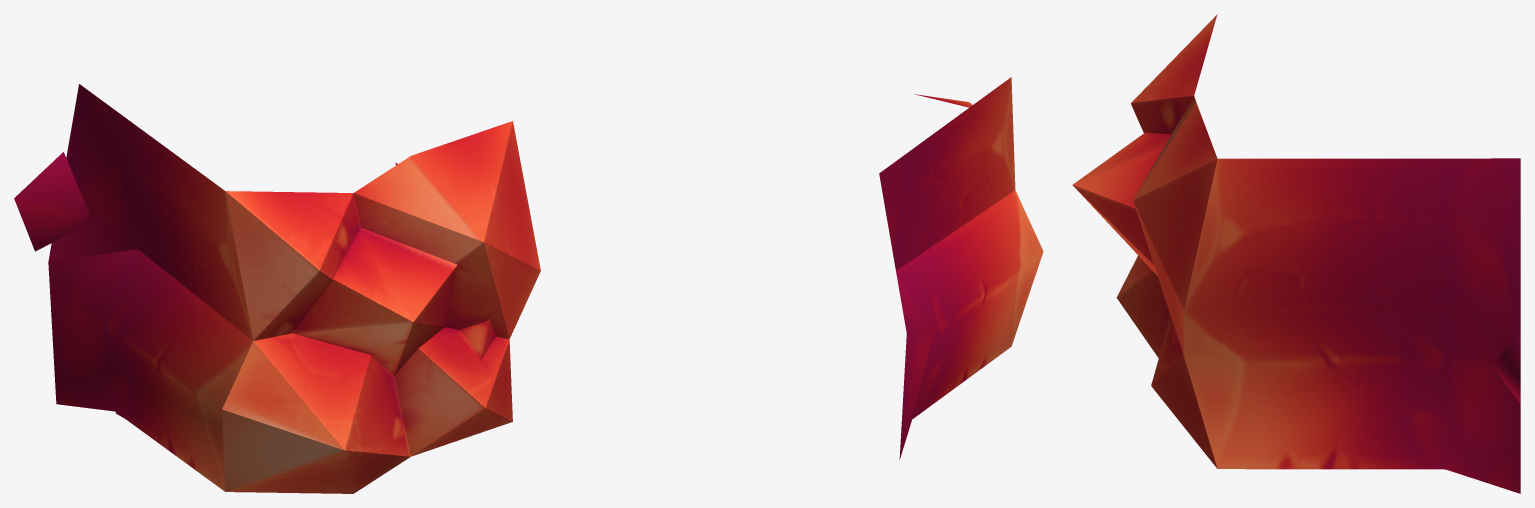
3 renders of one model, left to right at view 1: azimuth 30°, elevation 25°; view 2: azimuth 150°, elevation 25°; view 3: azimuth 270°, elevation 25°, orthographic. The views are drawn at different scales.
Parts seen in each view (by area): view 1: starlink.model-Mesh[0]; view 2: starlink.model-Mesh[0]; view 3: starlink.model-Mesh[0].
Part boxes in pixels (bbox=[...]): starlink.model-Mesh[0]: bbox=[14, 84, 540, 493]; starlink.model-Mesh[0]: bbox=[879, 77, 1043, 459]; starlink.model-Mesh[0]: bbox=[1072, 14, 1520, 493].
Bounding box in the file's own units: 1.43 × 1.26 × 1.31.
1 material, 1 textured.
